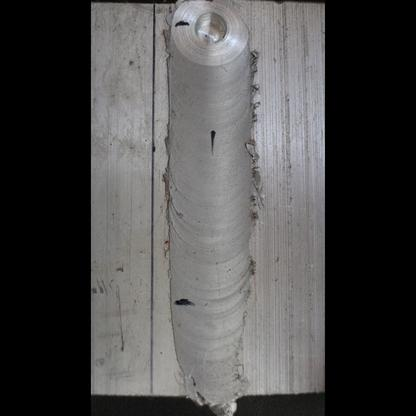crack: (185, 369, 208, 404), (166, 197, 187, 223)
cross-section reduction defect: (159, 233, 260, 397)
flash: (159, 127, 172, 258), (246, 138, 262, 221), (248, 48, 261, 122), (246, 255, 258, 279)
keyhole: (164, 4, 256, 66)
